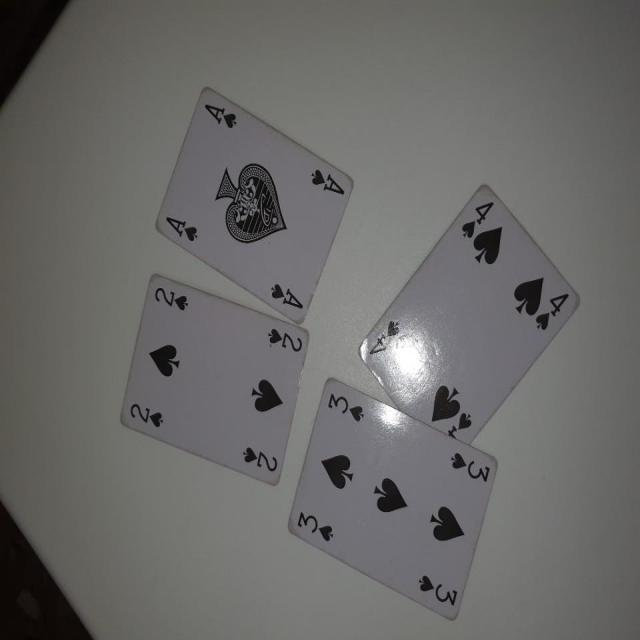2 Spades: (131, 284, 308, 482)
3 Spades: (297, 390, 498, 625)
4 Spades: (360, 174, 574, 430)
A Spades: (154, 87, 350, 324)
